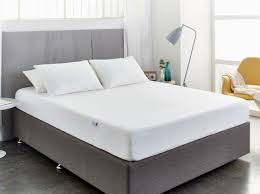bed-matress: (12, 79, 250, 162)
